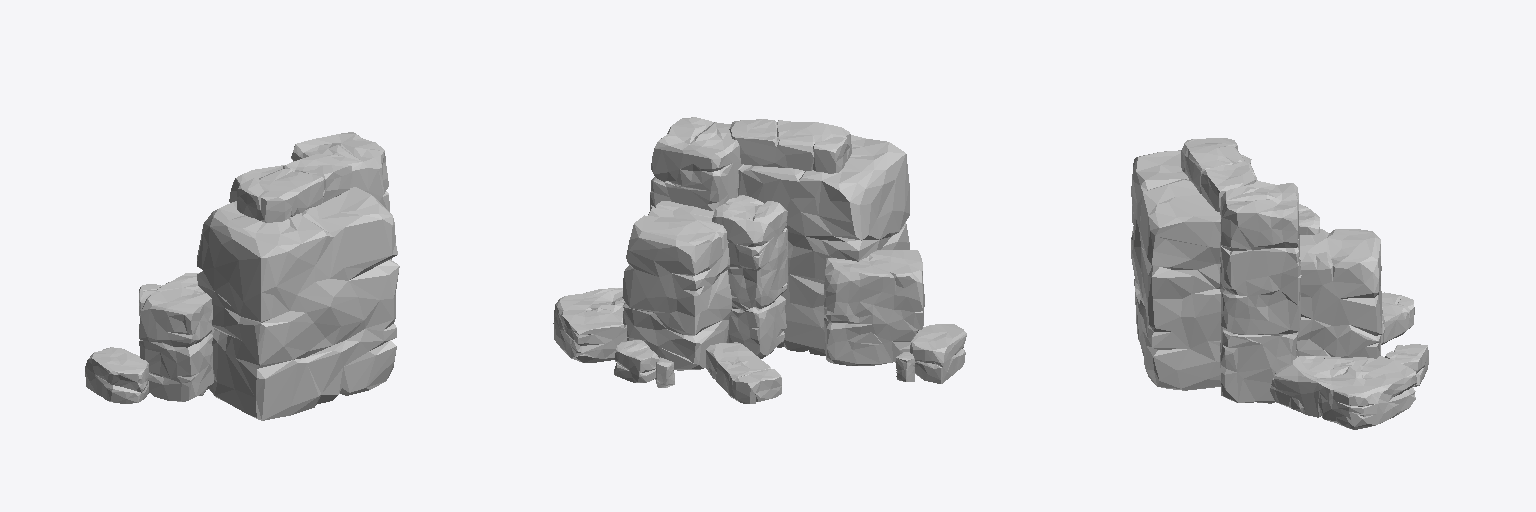
The model's file is rocks.obj.
3 renders of one model, left to right at view 1: azimuth 30°, elevation 25°; view 2: azimuth 150°, elevation 25°; view 3: azimuth 270°, elevation 25°, orthographic.
Visible parts, largest first — view 1: rock4_1_rockset1_0, rock6_rockset1_0, rock1_1_rockset1_0, rock5_1_rockset1_0, rock2_1_rockset1_0; view 2: rock4_1_rockset1_0, rock4_rockset1_0, rock6_rockset1_0, rock5_rockset1_0, rock5_1_rockset1_0, rock1_1_rockset1_0, rock7_rockset1_0, rock1_rockset1_0, rock2_1_rockset1_0, rock2_rockset1_0; view 3: rock4_1_rockset1_0, rock5_1_rockset1_0, rock4_rockset1_0, rock7_rockset1_0, rock1_1_rockset1_0, rock1_rockset1_0, rock2_rockset1_0.
Boxes of the visible parts, <box> form: rock4_1_rockset1_0: <box>197,187,399,420</box>; rock6_rockset1_0: <box>139,273,214,401</box>; rock1_1_rockset1_0: <box>237,154,352,222</box>; rock5_1_rockset1_0: <box>291,132,389,211</box>; rock2_1_rockset1_0: <box>85,348,148,403</box>; rock4_1_rockset1_0: <box>737,135,909,355</box>; rock4_rockset1_0: <box>622,201,732,370</box>; rock6_rockset1_0: <box>824,250,924,365</box>; rock5_rockset1_0: <box>712,195,787,358</box>; rock5_1_rockset1_0: <box>650,117,742,211</box>; rock1_1_rockset1_0: <box>729,119,851,173</box>; rock7_rockset1_0: <box>553,288,627,362</box>; rock1_rockset1_0: <box>706,342,781,403</box>; rock2_1_rockset1_0: <box>910,324,966,383</box>; rock2_rockset1_0: <box>614,340,659,382</box>; rock4_1_rockset1_0: <box>1131,150,1257,390</box>; rock5_1_rockset1_0: <box>1220,181,1301,403</box>; rock4_rockset1_0: <box>1296,229,1382,358</box>; rock7_rockset1_0: <box>1270,356,1416,429</box>; rock1_1_rockset1_0: <box>1181,138,1255,211</box>; rock1_rockset1_0: <box>1380,292,1414,344</box>; rock2_rockset1_0: <box>1385,344,1428,386</box>.
Size of the model in its own units: 1363 by 768 by 1016.